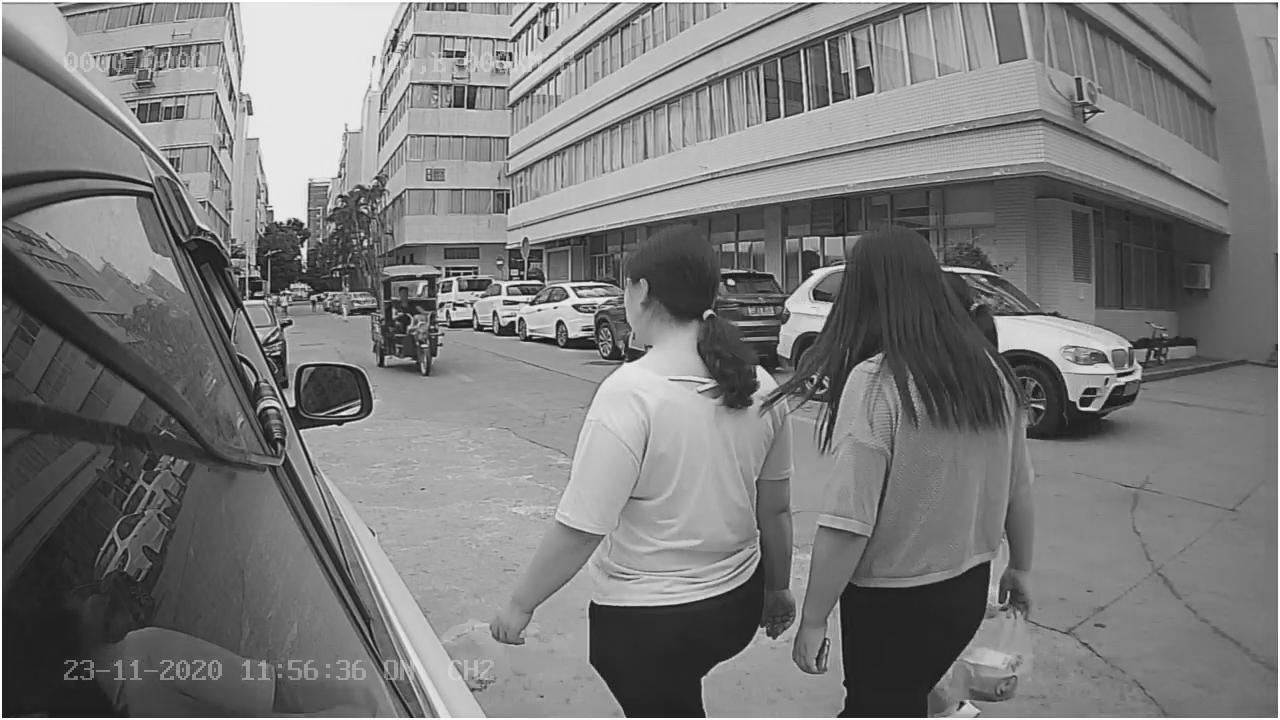person: (471, 218, 796, 720), (796, 220, 1041, 718)
